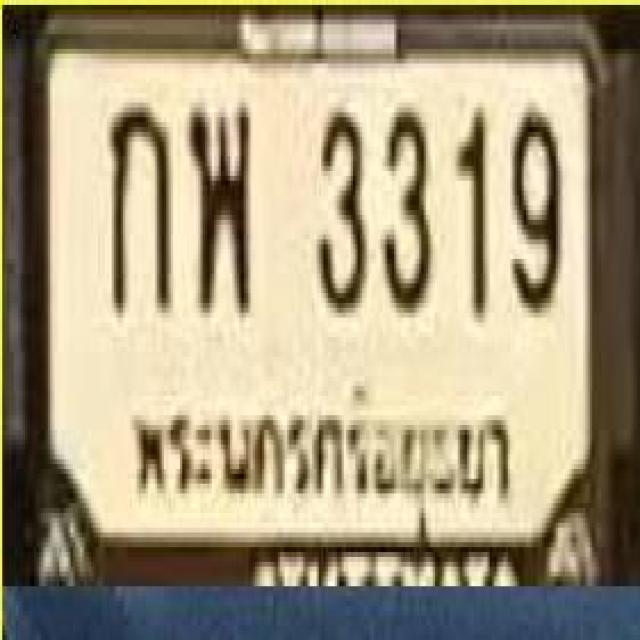license_plate: (32, 19, 620, 581)
